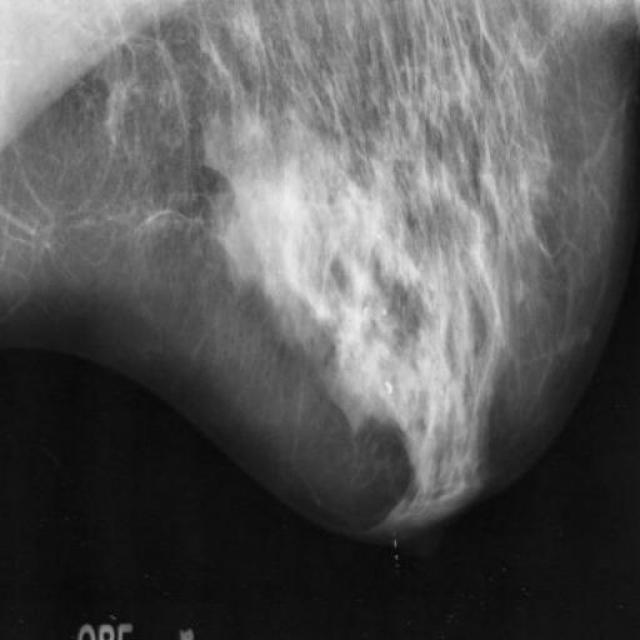cancer: (326, 287, 370, 339)
